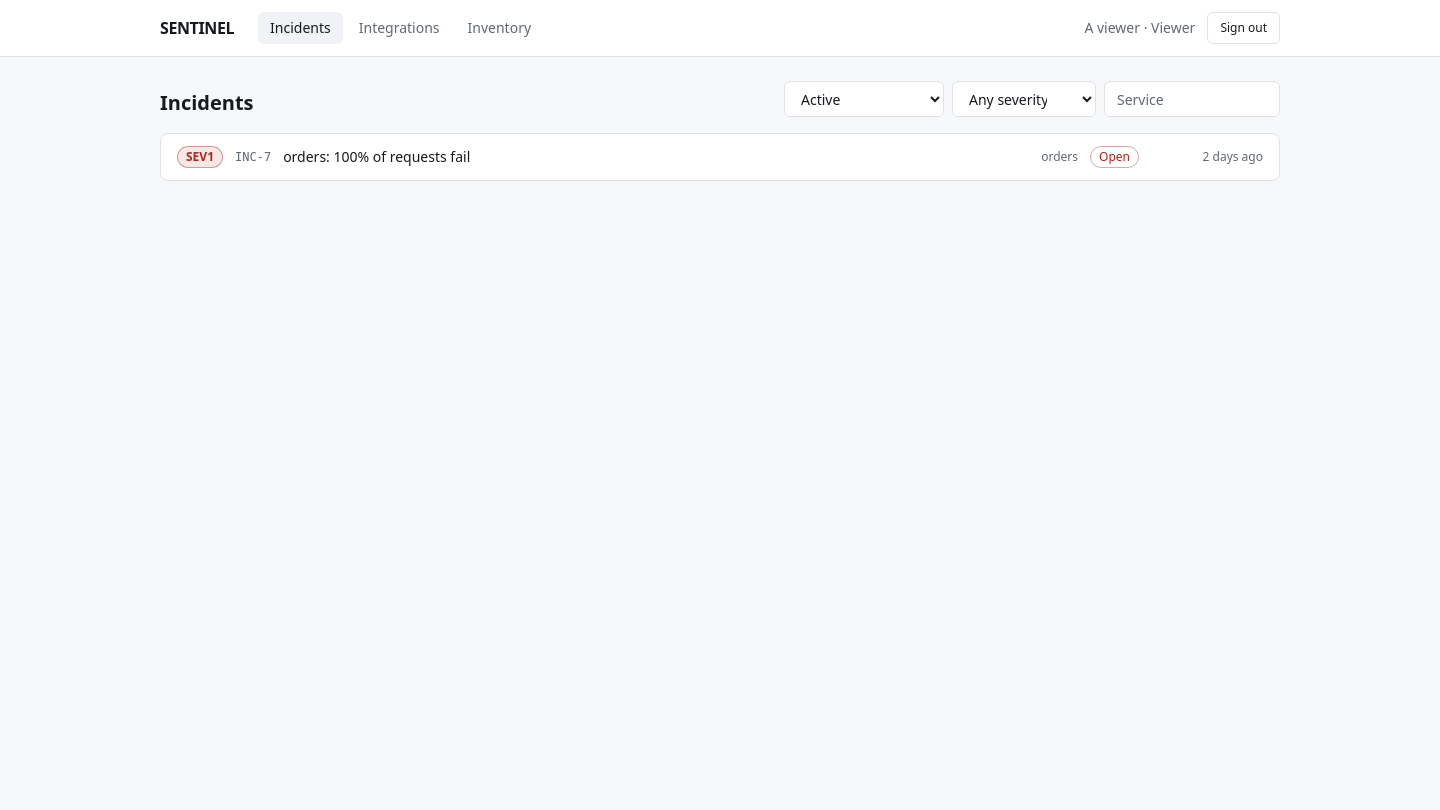
Test case: signing in › signs out with the CSRF token, and forgets the user
Click the button "Sign out" at (1244, 28), box x1=1207 y1=12 x2=1280 y2=44
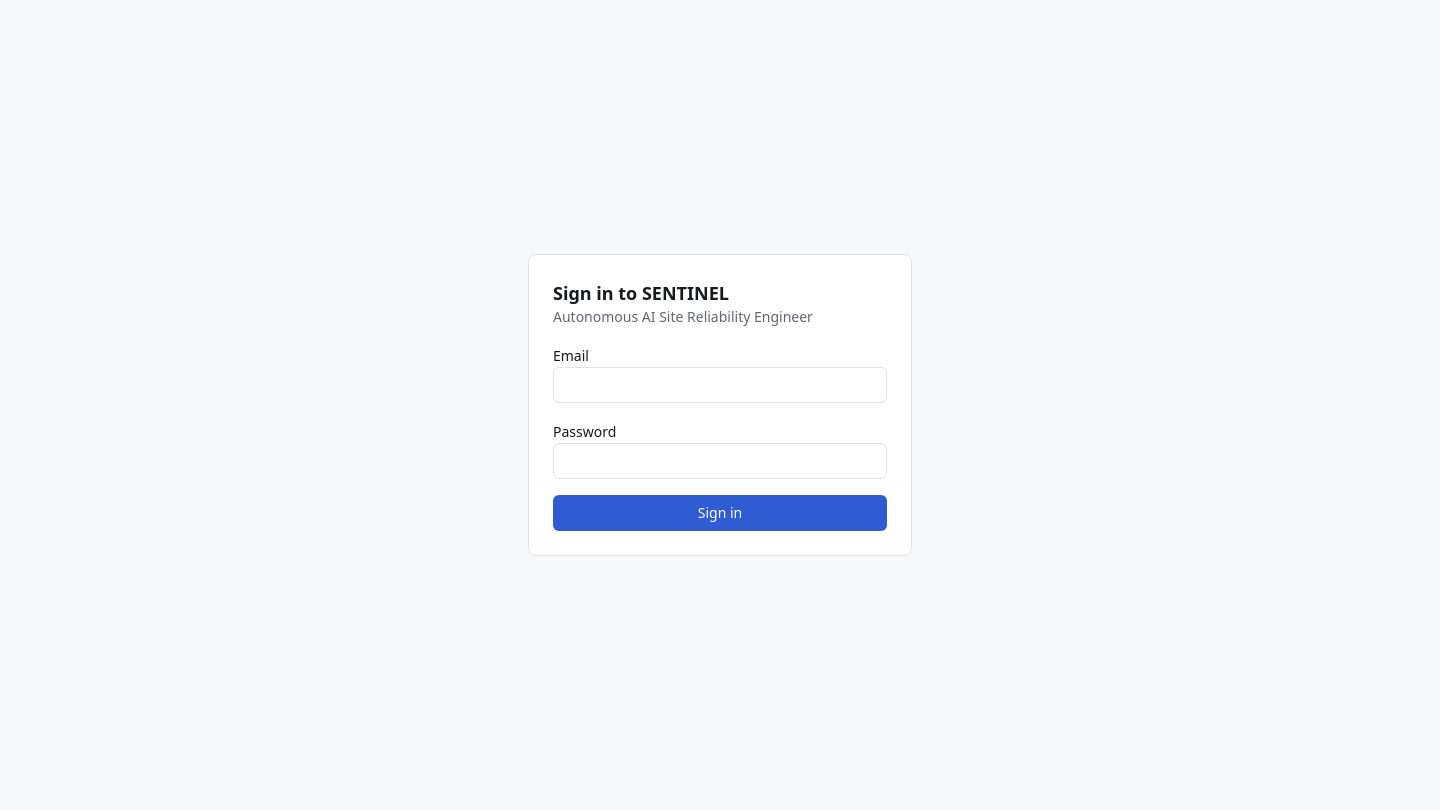
Expected: the heading "Sign in to SENTINEL" is shown, x1=553 y1=281 x2=729 y2=305
